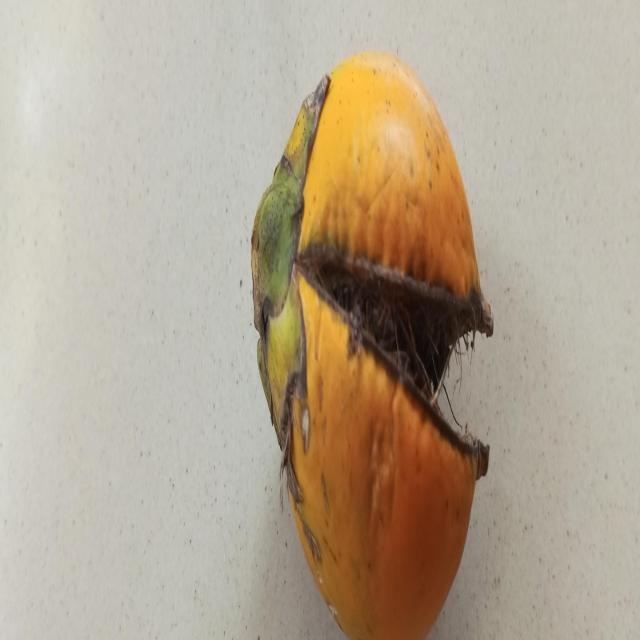damaged: (251, 52, 493, 640)
